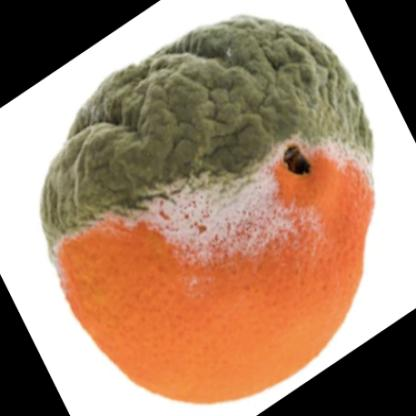rotten: (41, 17, 375, 404)
